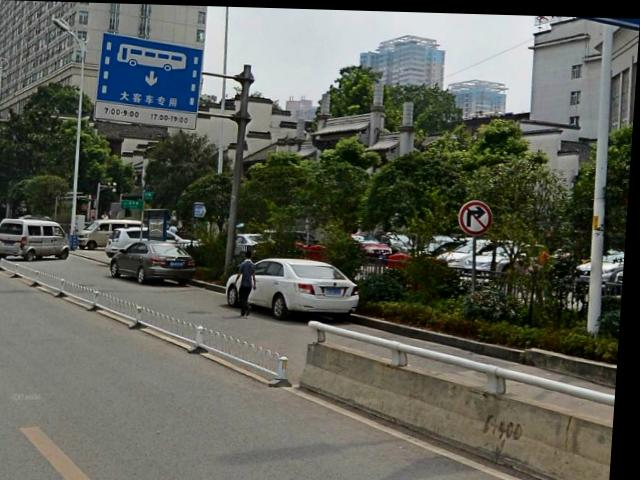not_turn_right: (459, 197, 500, 236)
